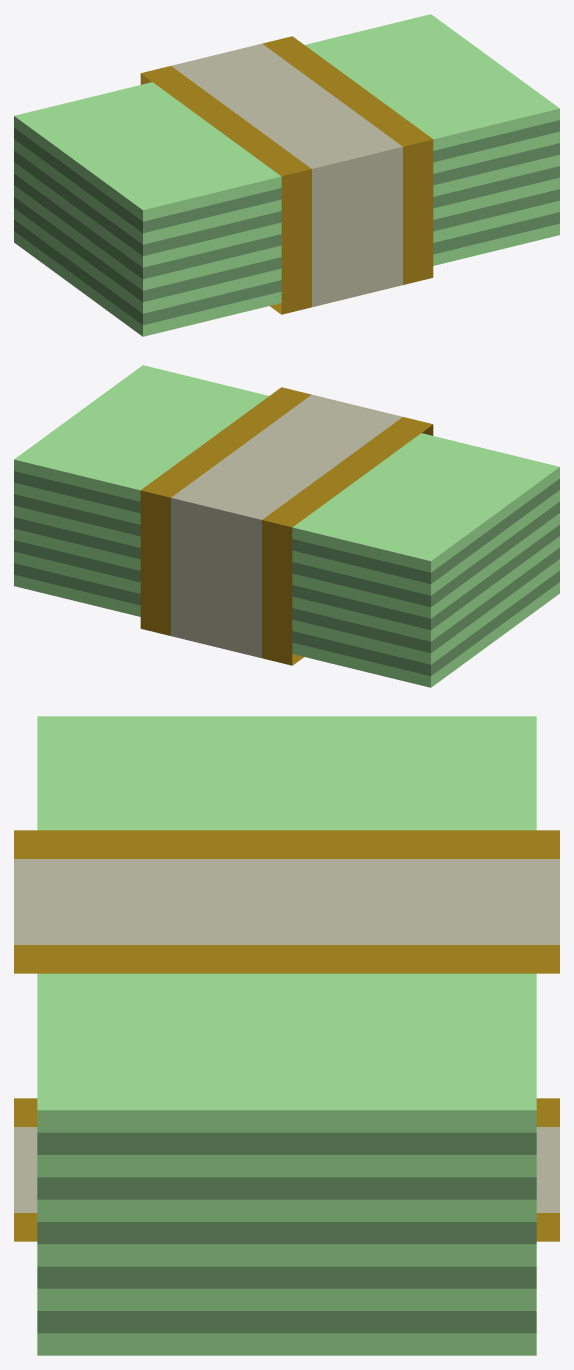
Rendered from Dinero.fbx.
The picture shows the model from 3 angles, top to bottom: view 1: azimuth 30°, elevation 25°; view 2: azimuth 150°, elevation 25°; view 3: azimuth 270°, elevation 25°; orthographic projection. The views are drawn at different scales.
Visible parts, largest first — view 1: Dinero; view 2: Dinero; view 3: Dinero.
Part boxes in pixels (box(x1,y1,x2,y2)): Dinero: box(14, 14, 559, 336); Dinero: box(14, 365, 559, 687); Dinero: box(14, 716, 559, 1355).
Bounding box in the file's own units: 4067 × 1289 × 2381.
